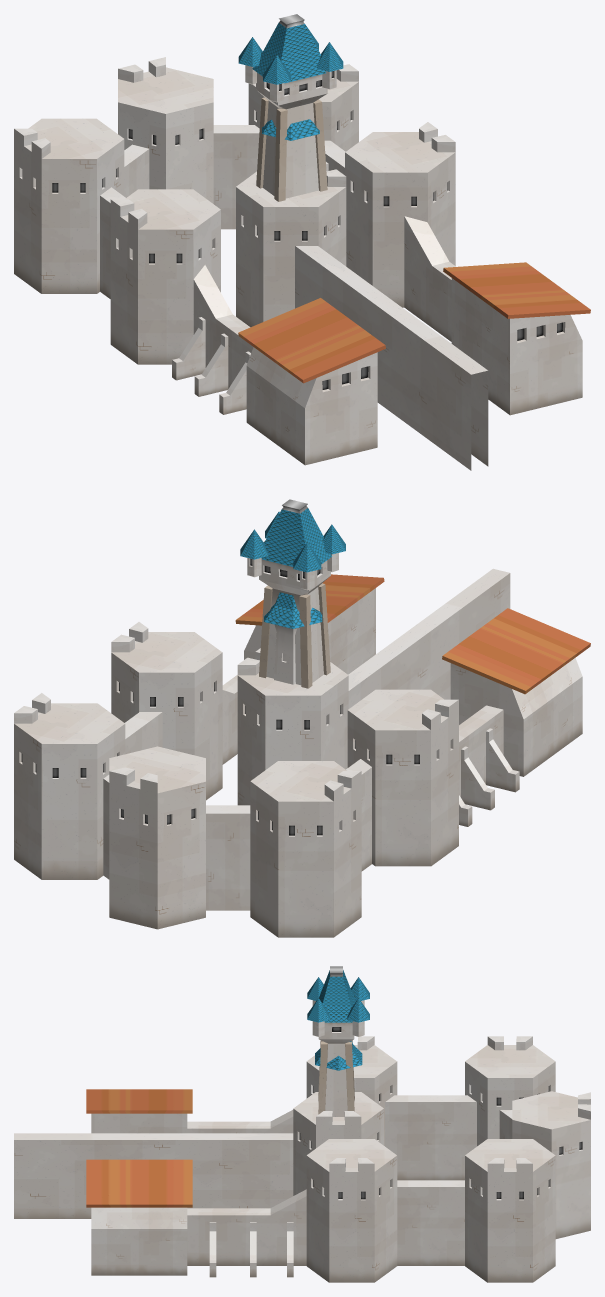
The model's file is Castle_Bridge.fbx.
3 renders of one model, top to bottom at view 1: azimuth 30°, elevation 25°; view 2: azimuth 150°, elevation 25°; view 3: azimuth 270°, elevation 25°, orthographic. The views are drawn at different scales.
Visible parts, largest first — view 1: Castle_Wall, Wall, Castle_Dungeon, Castle_Tower; view 2: Castle_Wall, Wall, Castle_Dungeon, Castle_Tower; view 3: Castle_Wall, Wall, Castle_Dungeon, Castle_Tower.
Part boxes in pixels (bbox=[...]): Castle_Wall: bbox=[14, 57, 590, 465]; Wall: bbox=[236, 162, 488, 470]; Castle_Dungeon: bbox=[238, 14, 343, 201]; Castle_Tower: bbox=[262, 119, 319, 140]; Castle_Wall: bbox=[14, 574, 590, 937]; Wall: bbox=[237, 568, 510, 805]; Castle_Dungeon: bbox=[240, 499, 345, 688]; Castle_Tower: bbox=[264, 592, 322, 684]; Castle_Wall: bbox=[86, 1036, 590, 1282]; Wall: bbox=[14, 1092, 383, 1218]; Castle_Dungeon: bbox=[307, 966, 369, 1116]; Castle_Tower: bbox=[315, 1041, 362, 1070].
Bounding box in the file's own units: 87.17 × 79.69 × 167.
